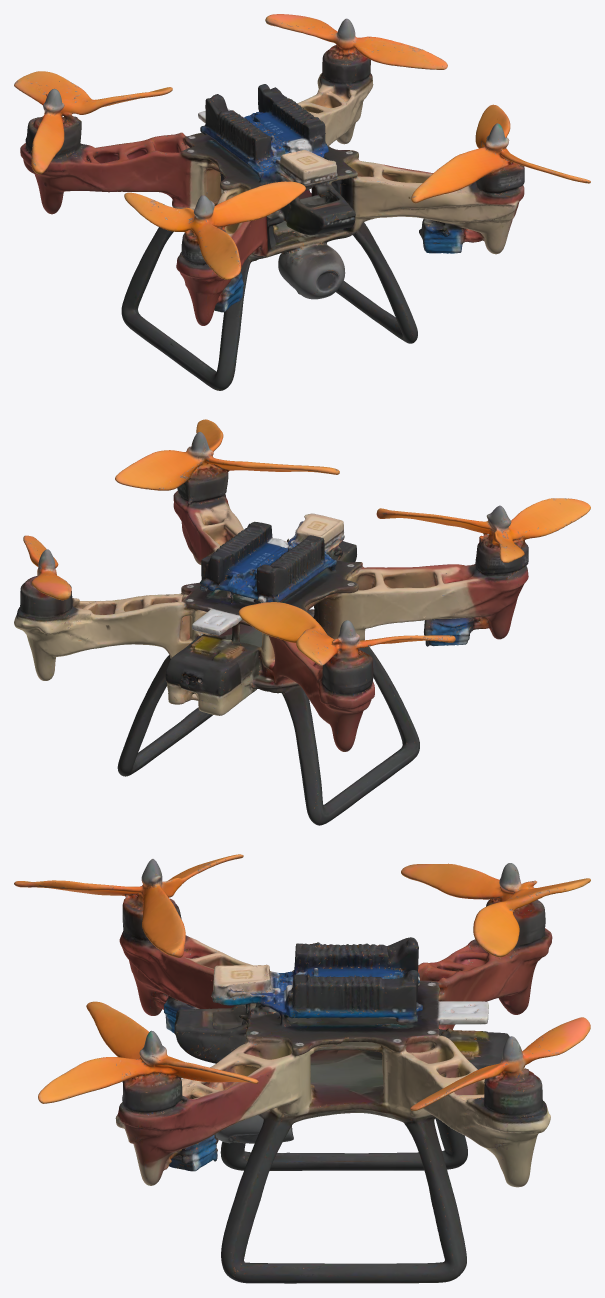
3 views of the same model, one above another, from view 1: azimuth 30°, elevation 25°; view 2: azimuth 150°, elevation 25°; view 3: azimuth 270°, elevation 25° (orthographic). The views are drawn at different scales.
Size of the model in its own units: 2 by 1.08 by 2.
Materials: 1 (1 with a texture image).
